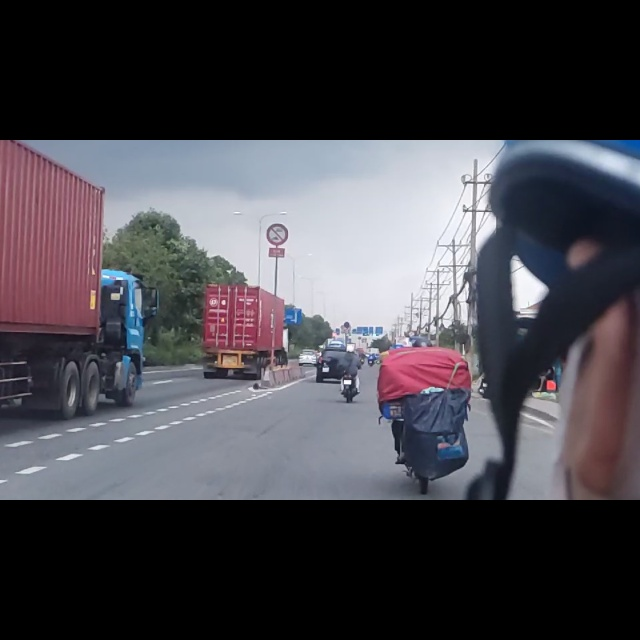bien_chi_dan: (267, 148, 289, 188)
